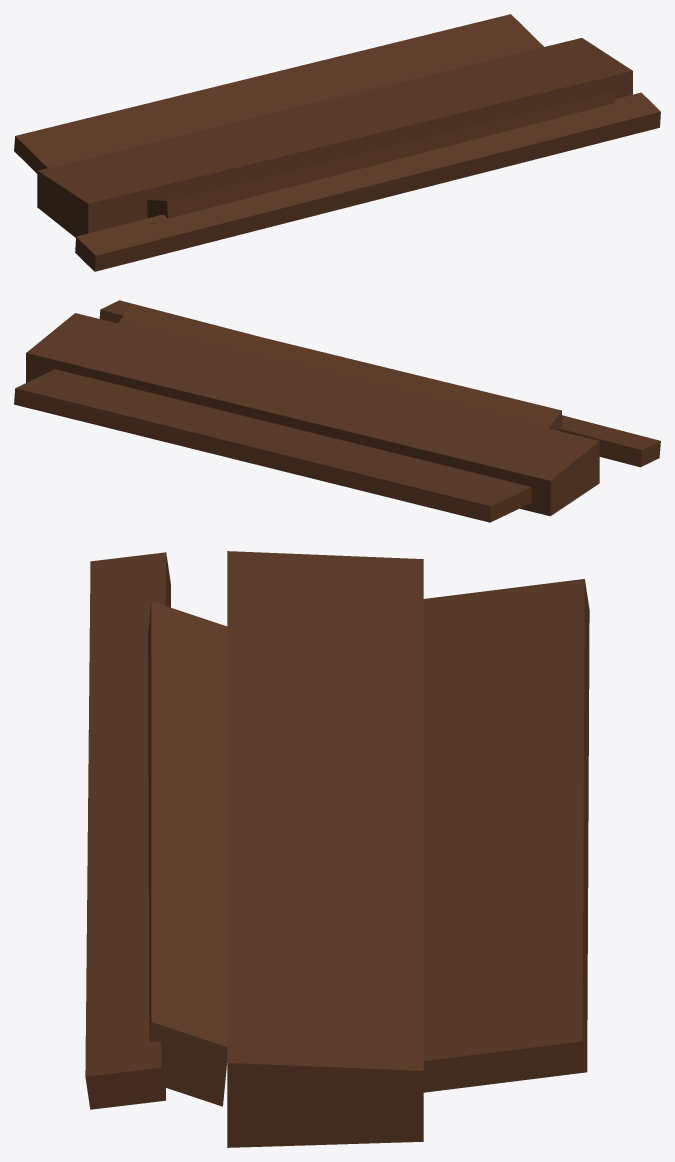
File: desc.fbx
The picture shows the model from 3 angles, top to bottom: view 1: azimuth 30°, elevation 25°; view 2: azimuth 150°, elevation 25°; view 3: azimuth 270°, elevation 25°; orthographic projection. The views are drawn at different scales.
Visible parts, largest first — view 1: desc; view 2: desc; view 3: desc.
Boxes of the visible parts, box(x1,y1,x2,y2) form: desc: box(14, 14, 660, 271); desc: box(14, 300, 660, 522); desc: box(85, 551, 589, 1147).
Bounding box in the file's own units: 491 × 38.44 × 194.
